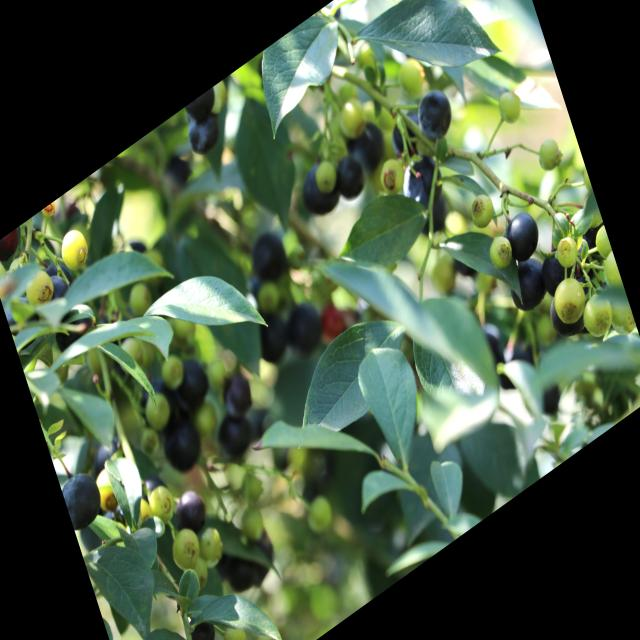blueberry: (393, 140, 450, 220), (281, 285, 328, 362), (295, 156, 342, 226), (58, 459, 104, 530), (498, 258, 548, 323), (241, 220, 289, 287), (168, 483, 215, 551), (413, 81, 459, 149), (498, 203, 544, 271), (156, 410, 199, 480), (345, 114, 389, 182), (168, 349, 211, 415), (250, 300, 291, 364), (537, 240, 576, 296), (331, 147, 368, 205), (186, 110, 224, 166)
blueberry-halfripe: (317, 299, 348, 345)
blueberry-unripe: (547, 266, 591, 332), (55, 218, 96, 280), (578, 287, 618, 348), (166, 518, 205, 576), (192, 520, 229, 574), (141, 478, 178, 532), (20, 263, 57, 317), (141, 384, 176, 438), (393, 53, 428, 106), (336, 92, 370, 144), (376, 150, 408, 199), (466, 185, 498, 232), (494, 82, 525, 130), (486, 228, 516, 275), (606, 294, 636, 340), (534, 134, 564, 178), (598, 253, 624, 301), (554, 228, 583, 271), (158, 351, 186, 394), (312, 156, 340, 198), (590, 225, 614, 266)
